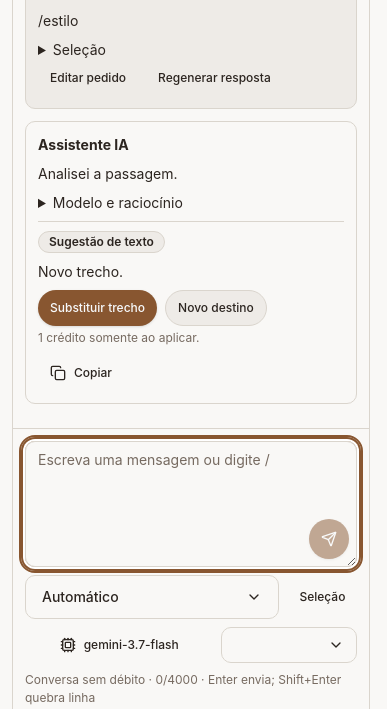
chat do capítulo › avisa sobre novas mensagens quando o autor consulta o histórico anterior
(page scrolled)
Type "Pedido novo" into the text box named "Mensagem para o Assistente IA" at (191, 504), box 25,441 -> 357,567
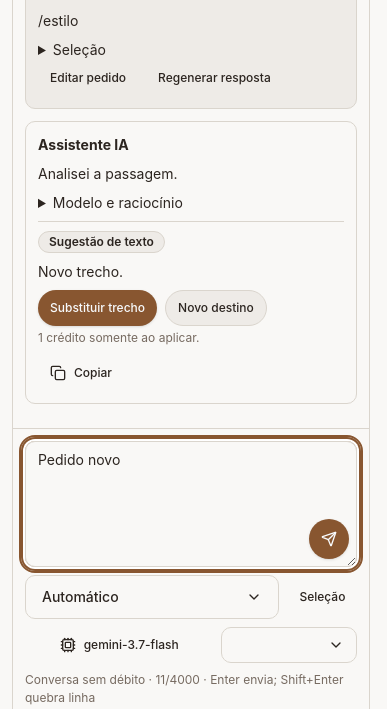
Click the button named "Enviar" at (329, 539), box 309,519 -> 349,559
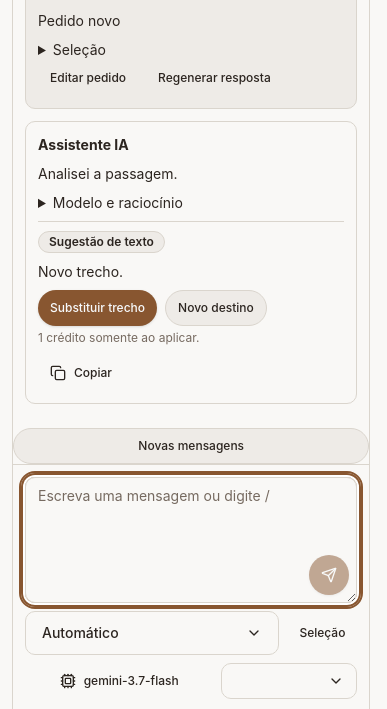
Click the button "Novas mensagens" at (191, 446), box 13,428 -> 369,464
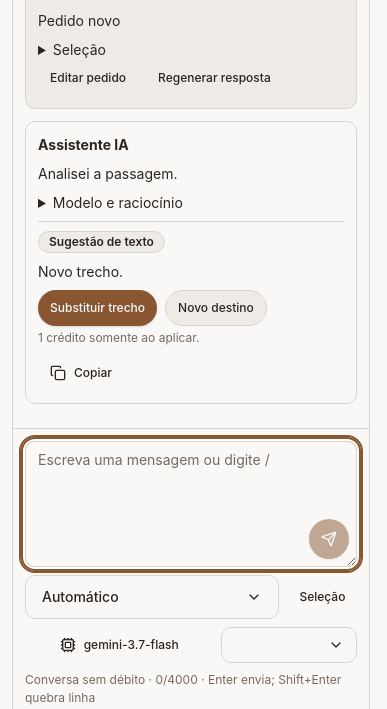
Now the button "Novas mensagens" is gone
